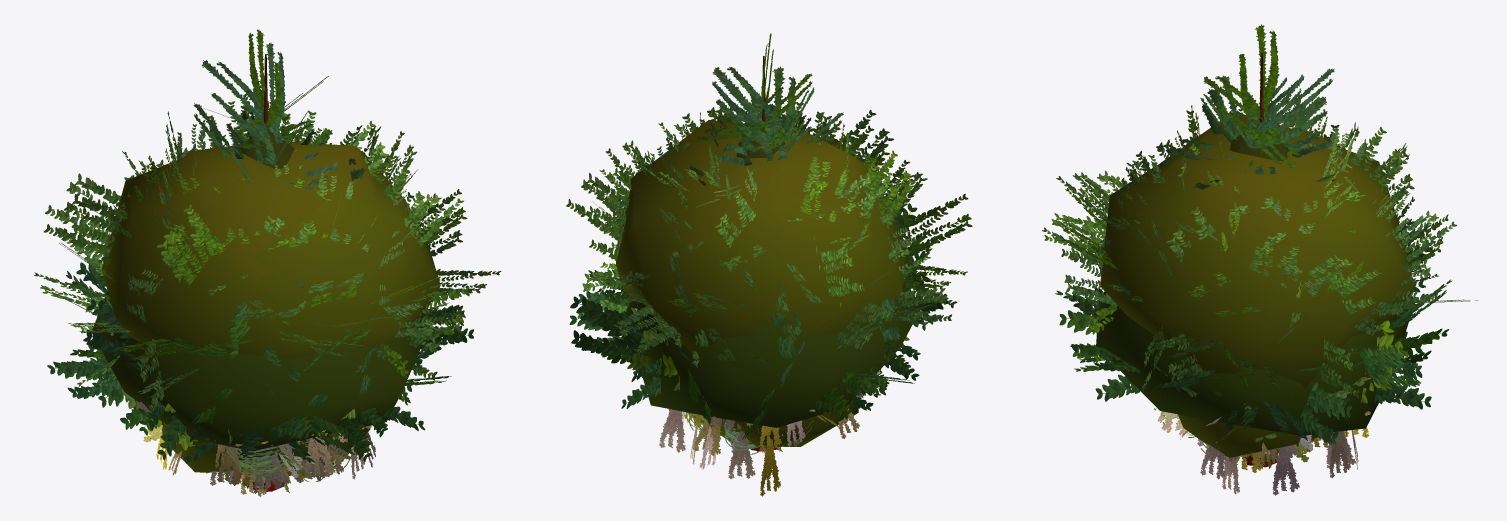
The model's file is trees_far.glb.
The picture shows the model from 3 angles, left to right: view 1: azimuth 30°, elevation 25°; view 2: azimuth 150°, elevation 25°; view 3: azimuth 270°, elevation 25°; orthographic projection. The views are drawn at different scales.
Parts seen in each view (by area): view 1: camphor_LOD2, camphor_LOD1, fig_LOD2, zelkova_LOD2, fig_LOD1, sugi_LOD1, zelkova_LOD1, shidarezakura_LOD1, shidarezakura_LOD2, casuarina_LOD1, cherry_LOD1, sugi_LOD2; view 2: camphor_LOD2, camphor_LOD1, fig_LOD2, zelkova_LOD2, fig_LOD1, sugi_LOD1, shidarezakura_LOD1, zelkova_LOD1, shidarezakura_LOD2, pisonia_LOD1, casuarina_LOD1; view 3: camphor_LOD2, camphor_LOD1, fig_LOD2, zelkova_LOD2, fig_LOD1, sugi_LOD1, shidarezakura_LOD1, zelkova_LOD1, shidarezakura_LOD2, pisonia_LOD1, sugi_LOD2.
Part boxes in pixels (x1,y1,x2,y2): camphor_LOD2: [101, 141, 440, 359]; camphor_LOD1: [34, 111, 501, 421]; fig_LOD2: [92, 291, 421, 491]; zelkova_LOD2: [156, 142, 377, 280]; fig_LOD1: [47, 209, 473, 491]; sugi_LOD1: [174, 29, 364, 190]; zelkova_LOD1: [99, 93, 417, 352]; shidarezakura_LOD1: [156, 428, 375, 496]; shidarezakura_LOD2: [161, 425, 370, 472]; casuarina_LOD1: [161, 429, 351, 481]; cherry_LOD1: [137, 402, 371, 480]; sugi_LOD2: [240, 54, 294, 168]; camphor_LOD2: [616, 136, 906, 353]; camphor_LOD1: [566, 102, 972, 394]; fig_LOD2: [626, 284, 920, 451]; zelkova_LOD2: [630, 120, 875, 255]; fig_LOD1: [569, 196, 947, 451]; sugi_LOD1: [681, 33, 843, 191]; shidarezakura_LOD1: [659, 399, 861, 496]; zelkova_LOD1: [618, 107, 916, 324]; shidarezakura_LOD2: [687, 400, 858, 446]; pisonia_LOD1: [608, 324, 909, 427]; casuarina_LOD1: [686, 369, 880, 454]; camphor_LOD2: [1100, 145, 1413, 395]; camphor_LOD1: [1042, 105, 1478, 415]; fig_LOD2: [1096, 291, 1413, 466]; zelkova_LOD2: [1161, 112, 1392, 260]; fig_LOD1: [1055, 218, 1452, 467]; sugi_LOD1: [1171, 24, 1336, 202]; shidarezakura_LOD1: [1158, 411, 1368, 495]; zelkova_LOD1: [1091, 92, 1410, 311]; shidarezakura_LOD2: [1178, 414, 1319, 457]; pisonia_LOD1: [1155, 320, 1408, 441]; sugi_LOD2: [1230, 123, 1287, 161].
Bounding box in the file's own units: 26.71 × 29.73 × 27.65.
Materials: 43 (1 with a texture image).
